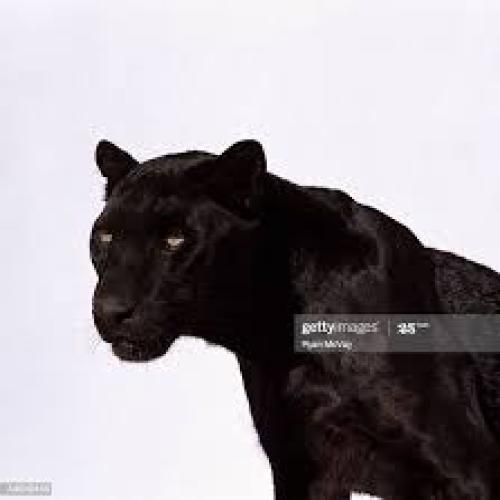panther-endangered: (89, 135, 500, 498)
